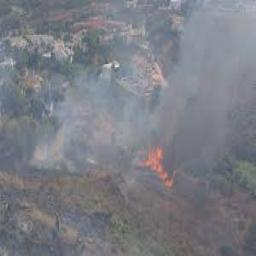Low smoke: (5, 0, 256, 168)
Small fire: (131, 132, 192, 197)
